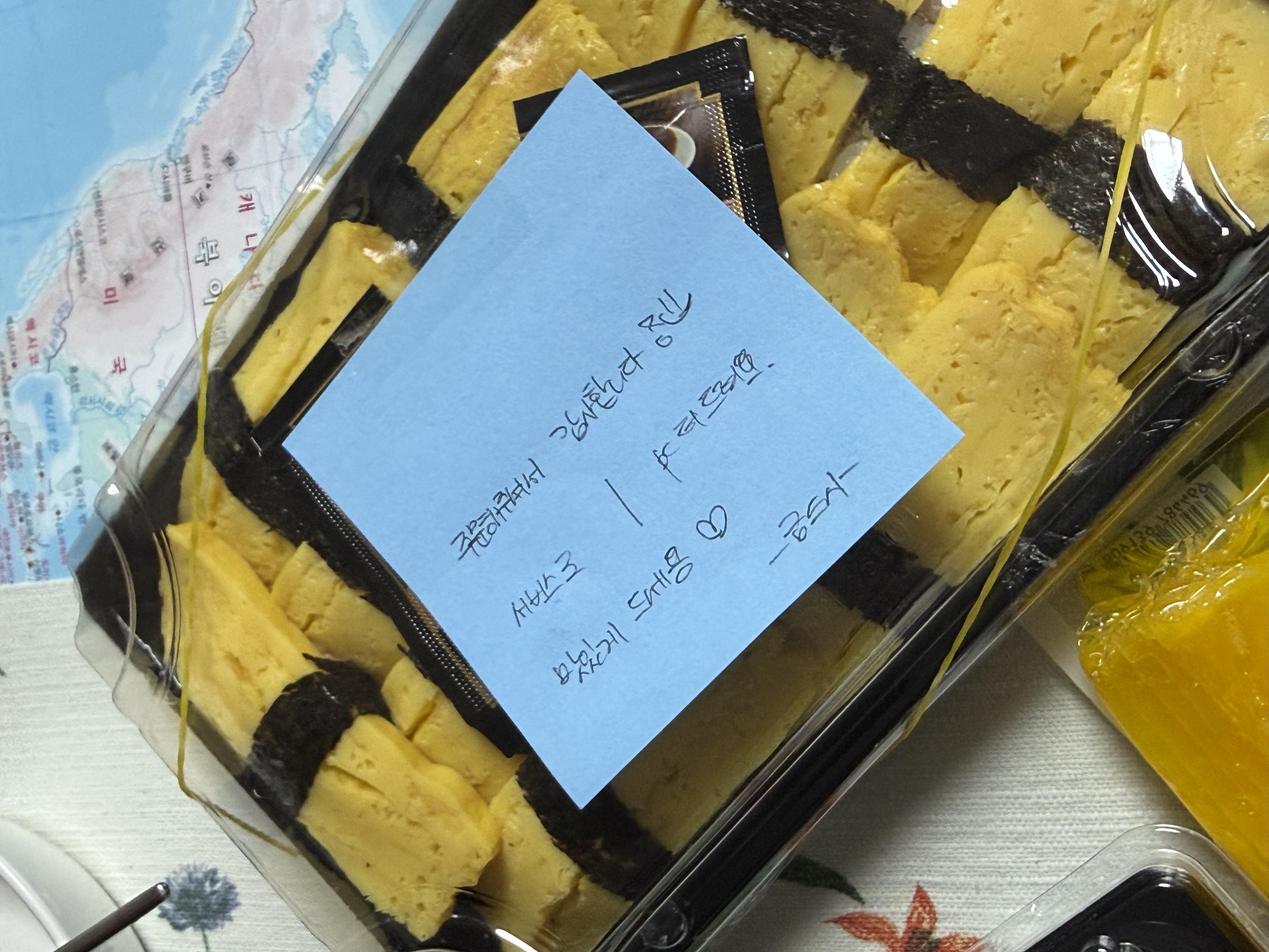Lunch Box: (0, 54, 1269, 952)
